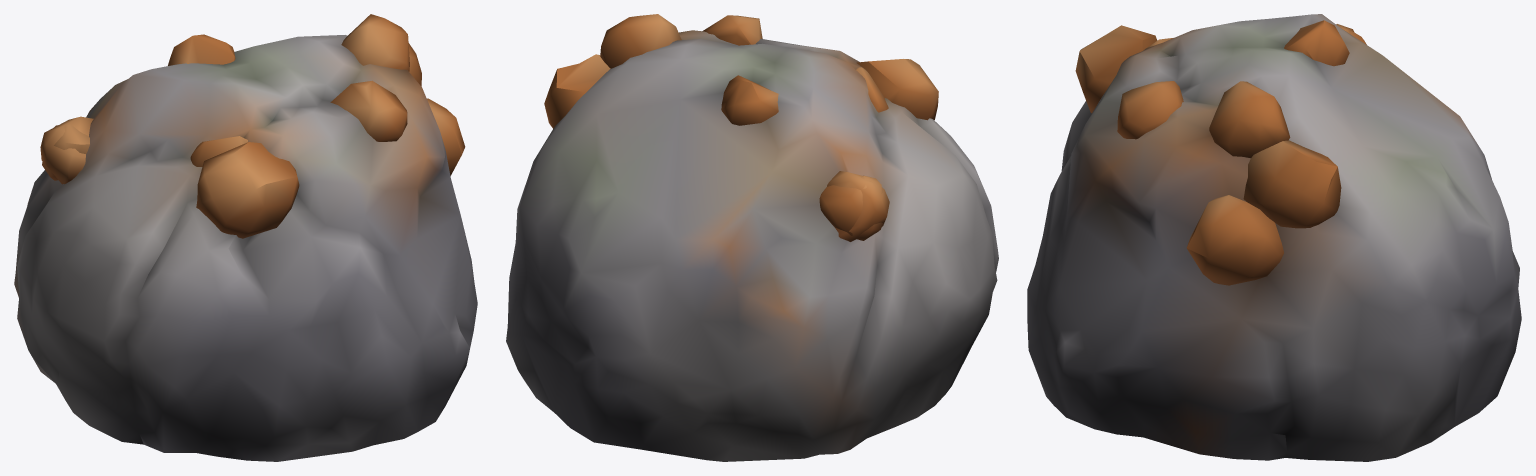
The model's file is cave-oreCopper-v3.glb.
The picture shows the model from 3 angles, left to right: view 1: azimuth 30°, elevation 25°; view 2: azimuth 150°, elevation 25°; view 3: azimuth 270°, elevation 25°; orthographic projection. The views are drawn at different scales.
Parts seen in each view (by area): view 1: 0_vein; view 2: 0_vein; view 3: 0_vein.
Part boxes in pixels (x1,y1,x2,y2): 0_vein: (14,14,477,461); 0_vein: (506,14,998,461); 0_vein: (1027,14,1521,461).
Size of the model in its own units: 1.12 by 0.864 by 1.12.
